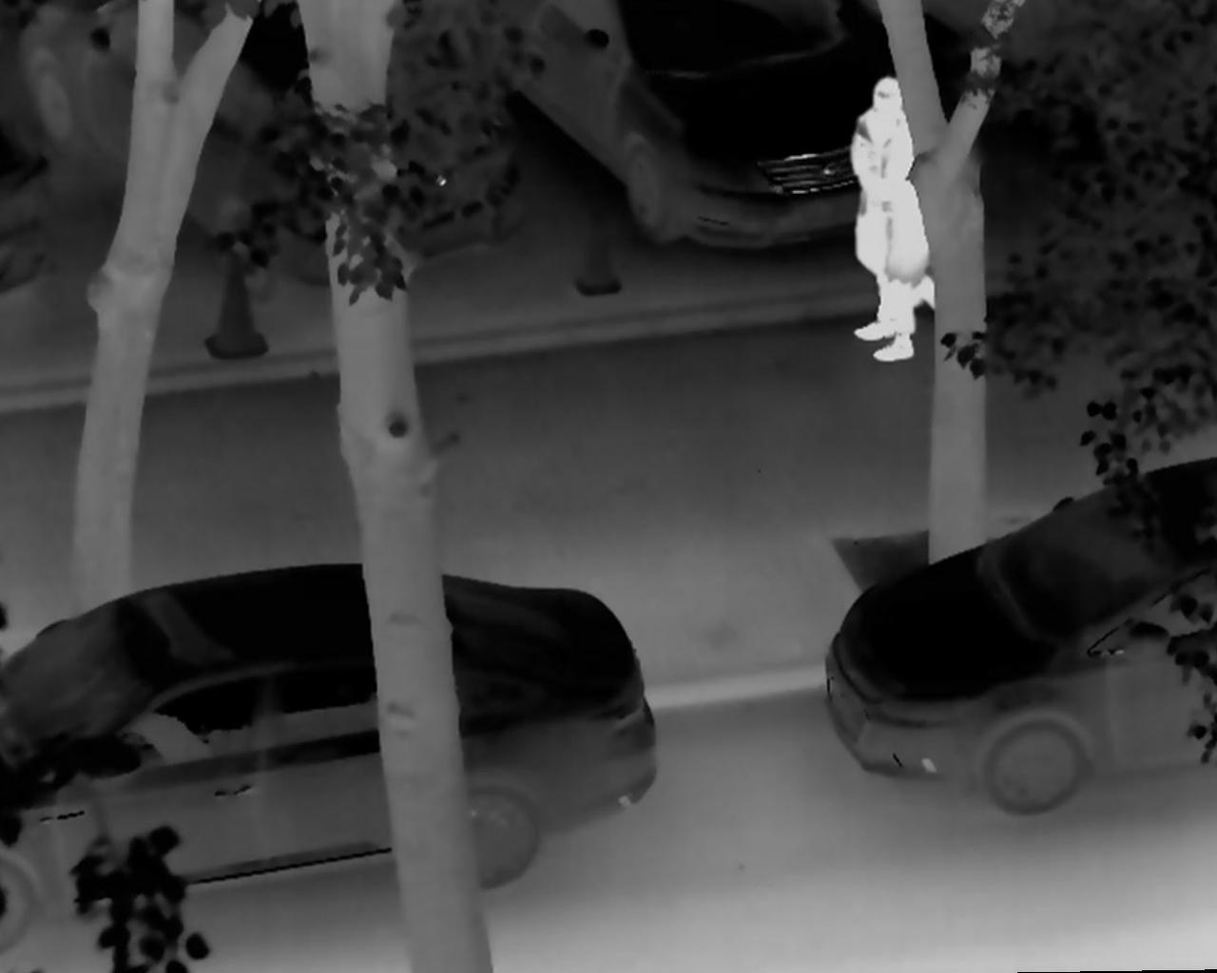person: (834, 74, 961, 344), (856, 100, 964, 365)
